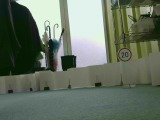speed_20: (116, 47, 133, 62)
